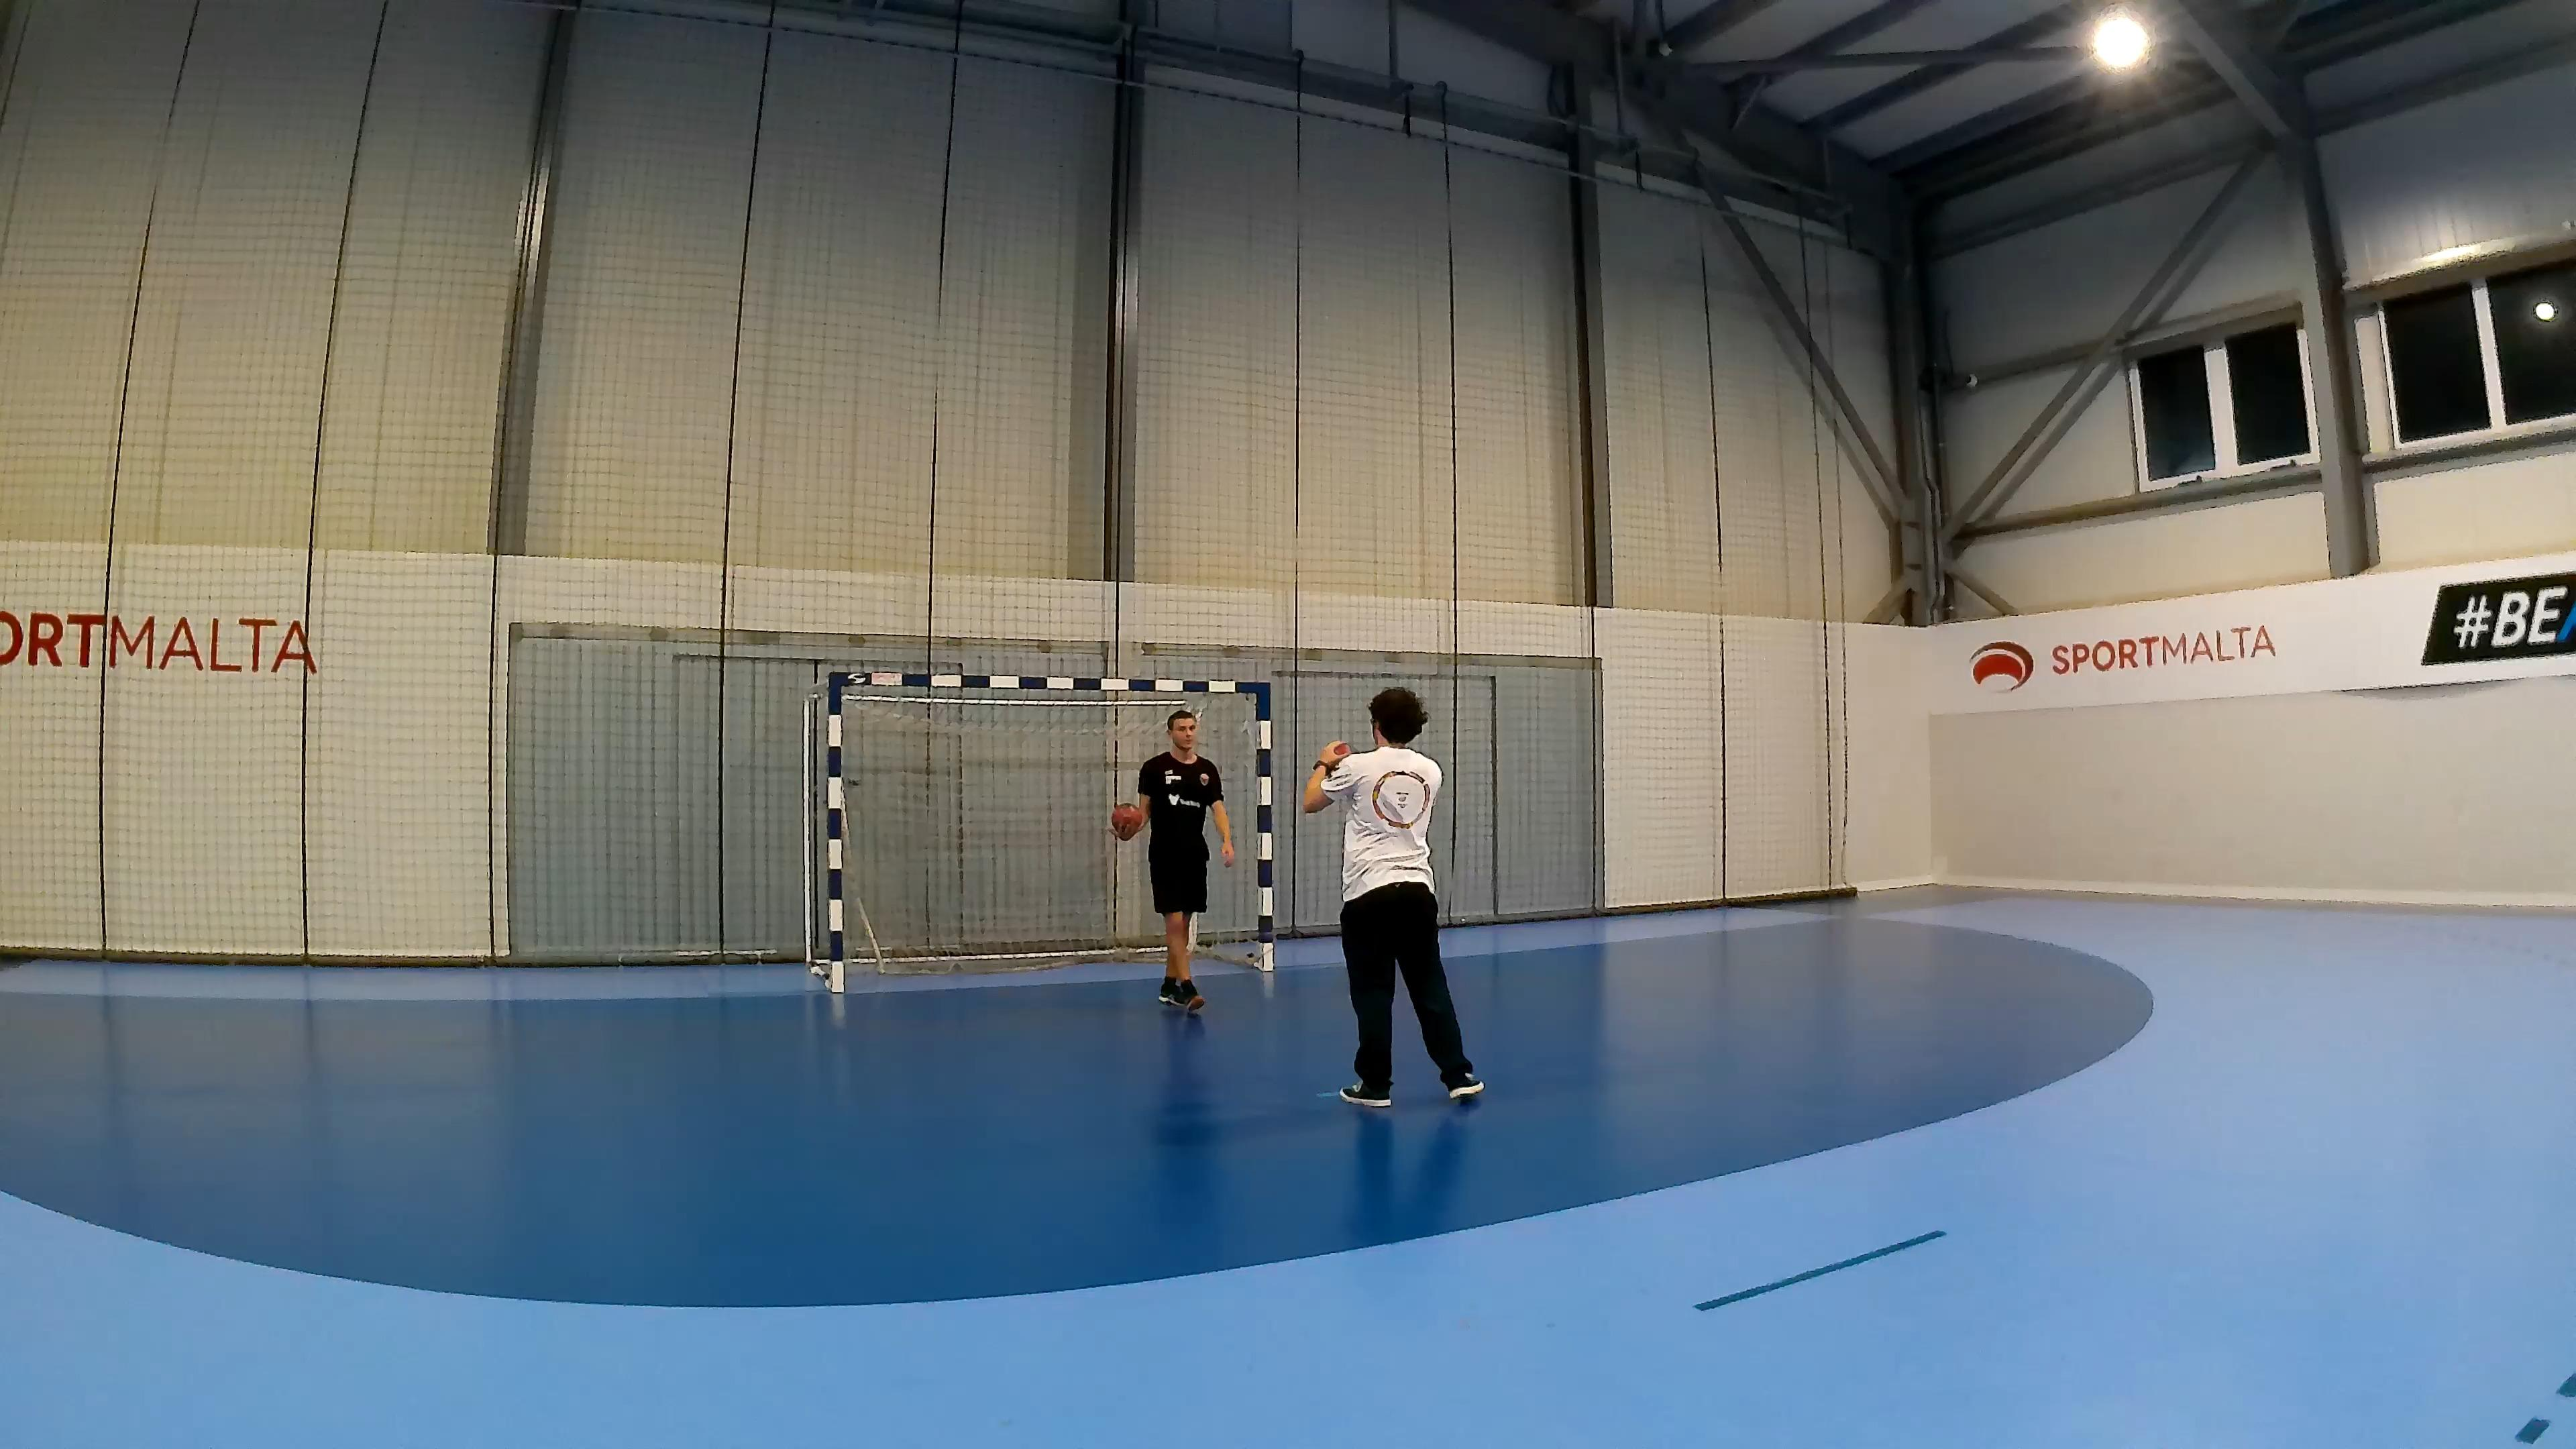handball: (1320, 743, 1361, 777), (1109, 801, 1143, 835)
